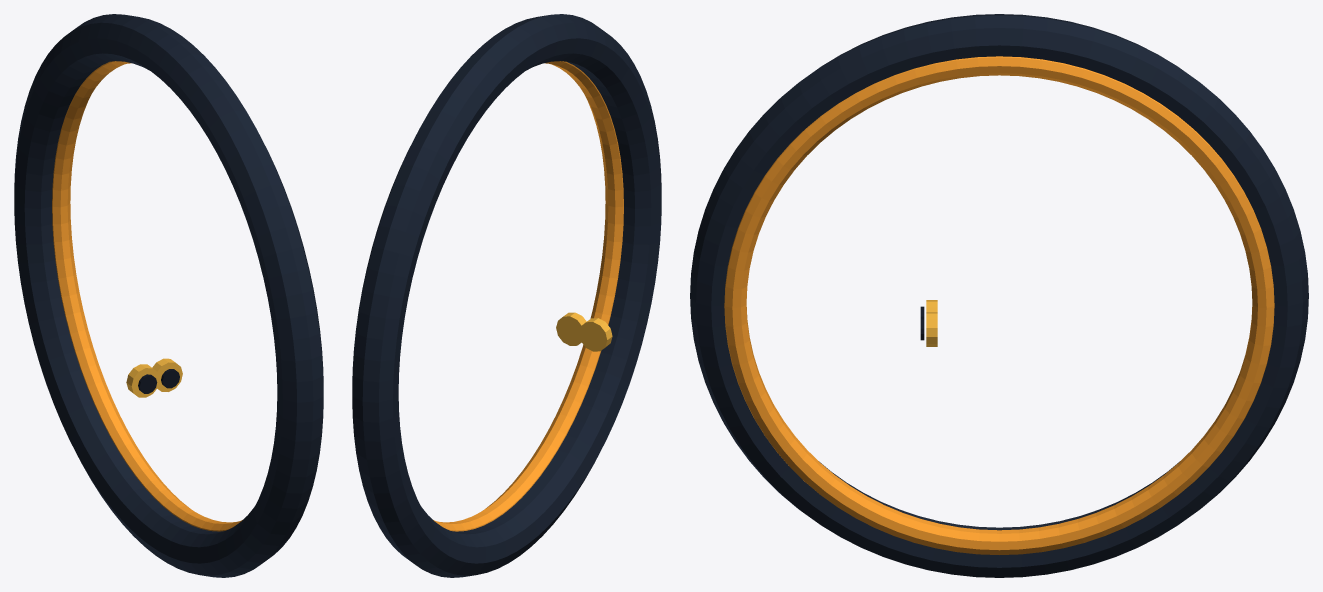
Rendered from 61_L85_PressureInterfaceSealGasket.fbx.
The picture shows the model from 3 angles, left to right: view 1: azimuth 30°, elevation 25°; view 2: azimuth 150°, elevation 25°; view 3: azimuth 270°, elevation 25°; orthographic projection. The views are drawn at different scales.
Visible parts, largest first — view 1: L85_PressureInterfaceSealGasket_Part_0000, L85_PressureInterfaceSealGasket_Part_0001, L85_PressureInterfaceSealGasket_Part_0002, L85_PressureInterfaceSealGasket_Part_0004; view 2: L85_PressureInterfaceSealGasket_Part_0000, L85_PressureInterfaceSealGasket_Part_0001, L85_PressureInterfaceSealGasket_Part_0002, L85_PressureInterfaceSealGasket_Part_0004; view 3: L85_PressureInterfaceSealGasket_Part_0000, L85_PressureInterfaceSealGasket_Part_0001.
Part boxes in pixels (box(x1,y1,x2,y2)): L85_PressureInterfaceSealGasket_Part_0000: box(14, 14, 323, 577); L85_PressureInterfaceSealGasket_Part_0001: box(52, 61, 242, 531); L85_PressureInterfaceSealGasket_Part_0002: box(126, 364, 159, 397); L85_PressureInterfaceSealGasket_Part_0004: box(152, 358, 182, 391); L85_PressureInterfaceSealGasket_Part_0000: box(352, 14, 661, 577); L85_PressureInterfaceSealGasket_Part_0001: box(433, 61, 623, 531); L85_PressureInterfaceSealGasket_Part_0002: box(579, 318, 612, 351); L85_PressureInterfaceSealGasket_Part_0004: box(556, 312, 586, 345); L85_PressureInterfaceSealGasket_Part_0000: box(690, 14, 1308, 577); L85_PressureInterfaceSealGasket_Part_0001: box(724, 56, 1274, 554).
Size of the model in its own units: 43.38 by 229 by 229.
